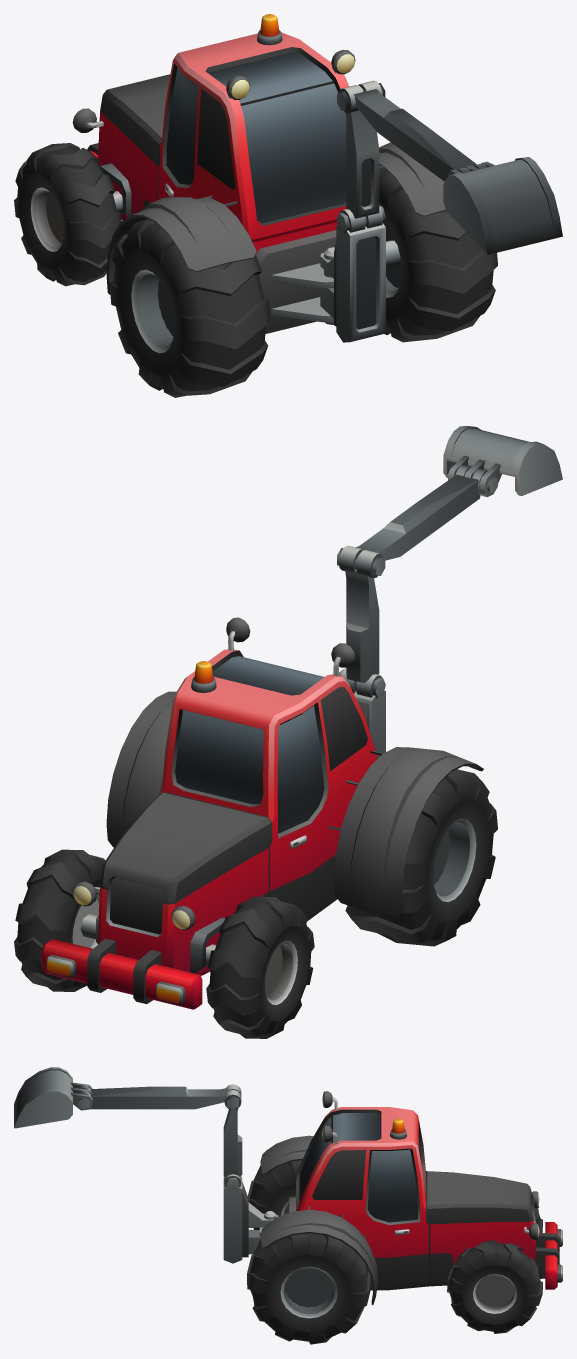
Rendered from Excavator_1B.fbx.
3 renders of one model, top to bottom at view 1: azimuth 30°, elevation 25°; view 2: azimuth 150°, elevation 25°; view 3: azimuth 270°, elevation 25°, orthographic. The views are drawn at different scales.
Visible parts, largest first — view 1: Excavator_1B_Body, Excavator_1B_Wheel_R.L, Excavator_1B_Wheel_R.R, Excavator_1B_Wheel_F.L, Excavator_Scoop_1B, Excavator_Swing_Pivot_1A, Excavator_Forearm_1B, Excavator_Arm_1B; view 2: Excavator_1B_Body, Excavator_1B_Wheel_R.L, Excavator_1B_Wheel_F.L, Excavator_1B_Wheel_F.R, Excavator_Scoop_1B, Excavator_Forearm_1B, Excavator_Arm_1B, Excavator_Swing_Pivot_1A; view 3: Excavator_1B_Body, Excavator_1B_Wheel_R.R, Excavator_1B_Wheel_F.R, Excavator_Scoop_1B, Excavator_Forearm_1B, Excavator_Swing_Pivot_1A, Excavator_1B_Wheel_R.L, Excavator_Arm_1B.
Boxes of the visible parts, box(x1,y1,x2,y2) form: Excavator_1B_Body: box(72, 14, 445, 333); Excavator_1B_Wheel_R.L: box(109, 219, 270, 397); Excavator_1B_Wheel_R.R: box(379, 165, 497, 342); Excavator_1B_Wheel_F.L: box(14, 143, 121, 286); Excavator_Scoop_1B: box(443, 157, 562, 254); Excavator_Swing_Pivot_1A: box(320, 206, 385, 342); Excavator_Forearm_1B: box(337, 83, 486, 181); Excavator_Arm_1B: box(336, 80, 385, 233); Excavator_1B_Body: box(41, 617, 483, 1009); Excavator_1B_Wheel_R.L: box(345, 769, 497, 946); Excavator_1B_Wheel_F.L: box(206, 896, 314, 1038); Excavator_1B_Wheel_F.R: box(14, 849, 105, 991); Excavator_Scoop_1B: box(443, 426, 562, 497); Excavator_Forearm_1B: box(337, 465, 487, 575); Excavator_Arm_1B: box(338, 545, 385, 698); Excavator_Swing_Pivot_1A: box(340, 668, 385, 759); Excavator_1B_Body: box(259, 1091, 562, 1304); Excavator_1B_Wheel_R.R: box(247, 1233, 371, 1344); Excavator_1B_Wheel_F.R: box(447, 1240, 542, 1333); Excavator_Scoop_1B: box(14, 1067, 92, 1128); Excavator_Forearm_1B: box(78, 1085, 238, 1109); Excavator_Swing_Pivot_1A: box(223, 1174, 278, 1263); Excavator_1B_Wheel_R.L: box(248, 1160, 302, 1229); Excavator_Arm_1B: box(223, 1084, 242, 1189).
Size of the model in its own units: 3.97 by 4.08 by 9.2.
